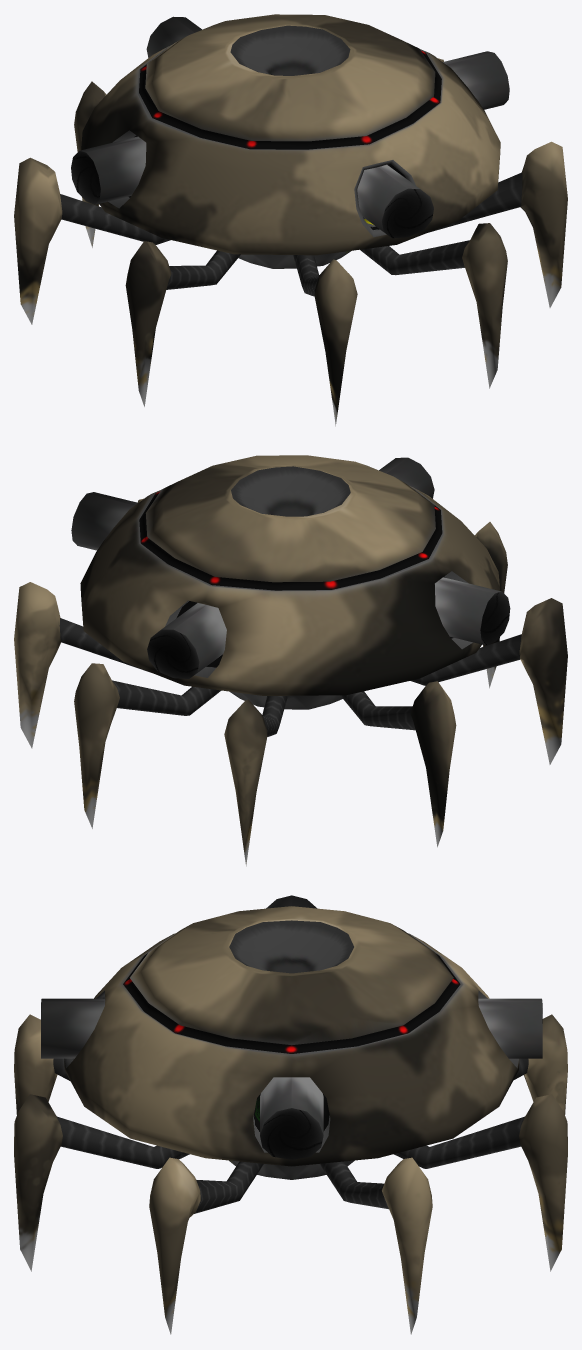
Rendered from centinela.dae.
3 views of the same model, one above another, from view 1: azimuth 30°, elevation 25°; view 2: azimuth 150°, elevation 25°; view 3: azimuth 270°, elevation 25° (orthographic). The views are drawn at different scales.
Parts seen in each view (by area): view 1: Cube; view 2: Cube; view 3: Cube.
Part boxes in pixels (box(x1,y1,x2,y2)): Cube: box(14, 14, 567, 426); Cube: box(14, 455, 567, 866); Cube: box(14, 895, 567, 1334).
Size of the model in its own units: 11.37 by 11.79 by 6.7.
1 material, 1 textured.
